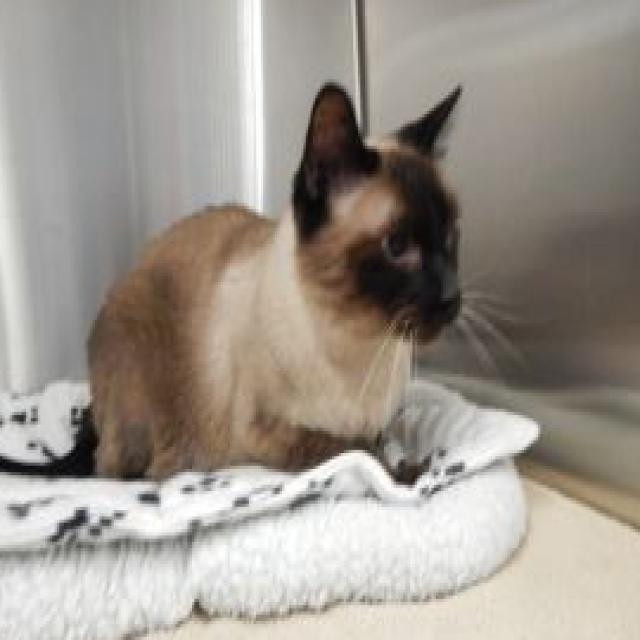Siamese: (0, 76, 467, 488)
